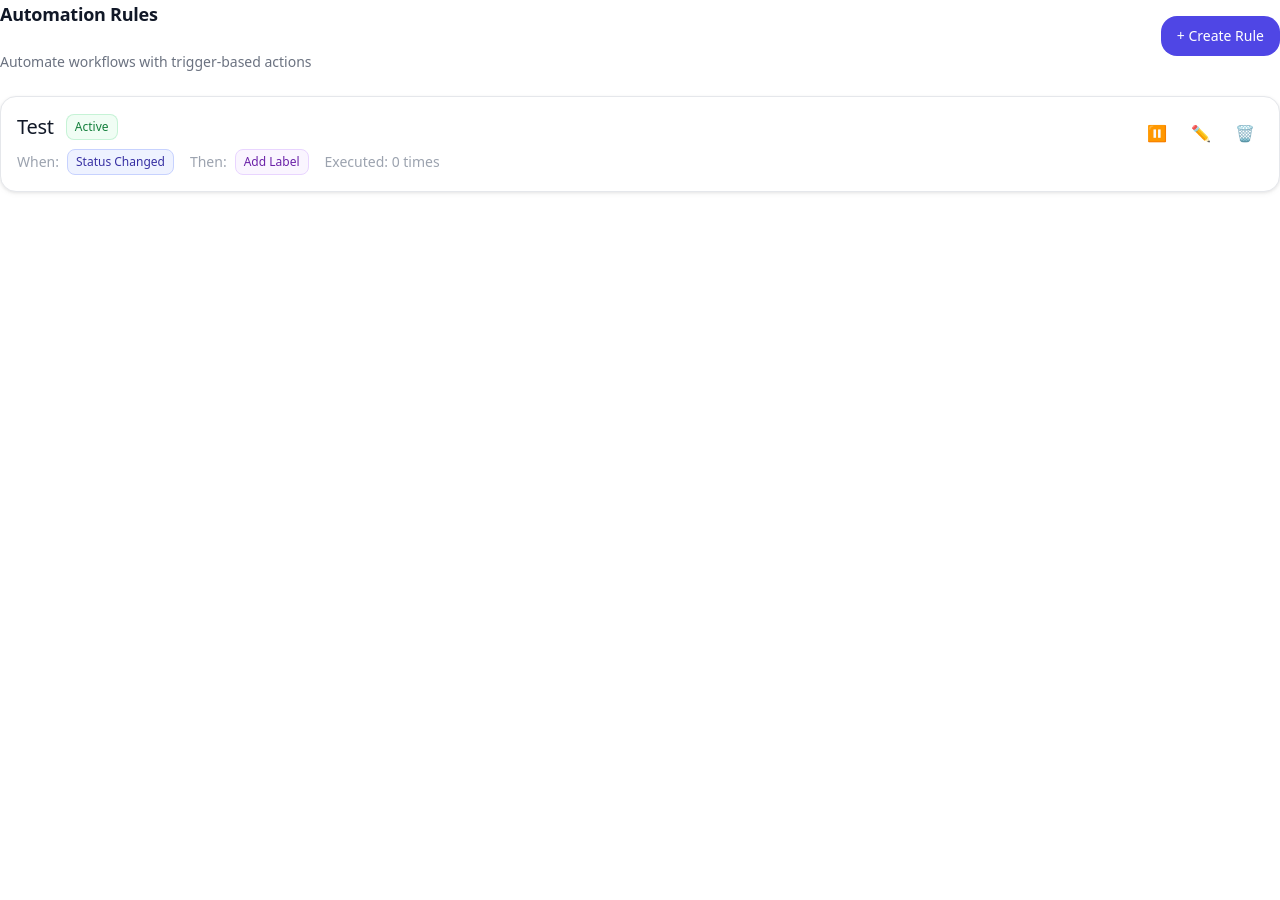
it: AutomationRulesManager - Component Behavior › Success & Error Handling › should show success toast and close dialog after update
This screenshot has width=1280, height=900.
Click the button titled "Edit rule": [1201, 133] box [1183,113,1219,153]
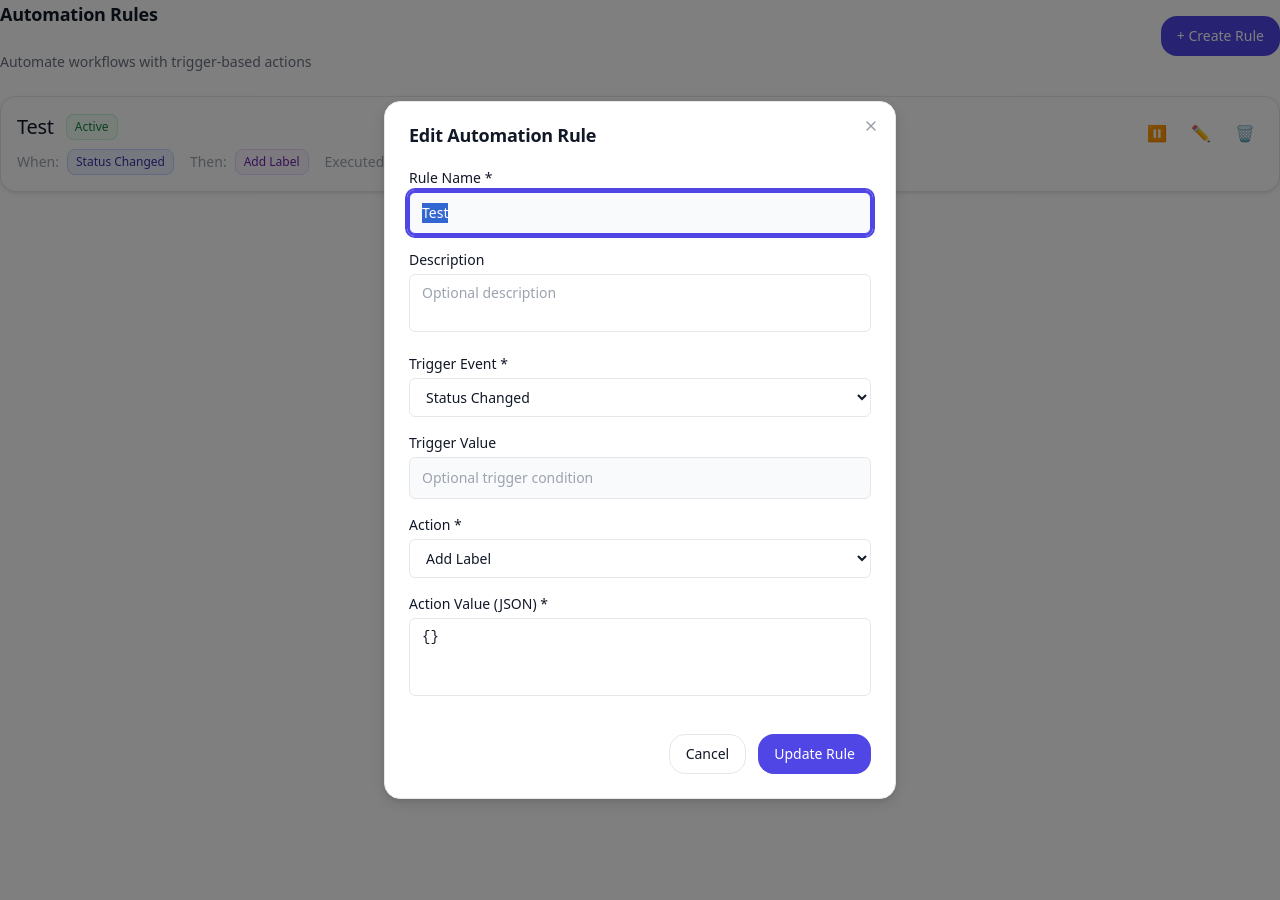
Click the button "Update Rule": [815, 754] box [758,734,871,774]
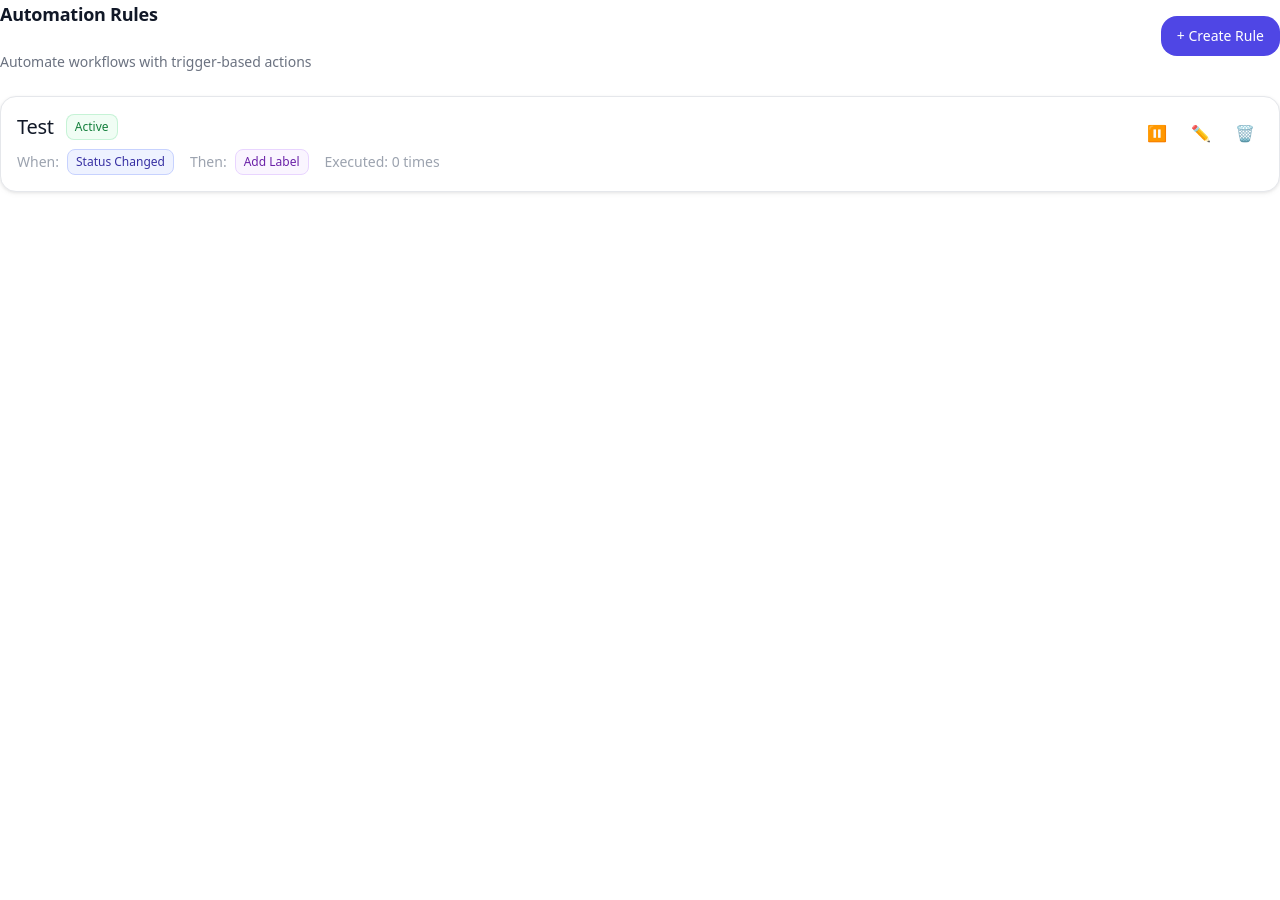
Expected: the heading "Edit Automation Rule" is gone
